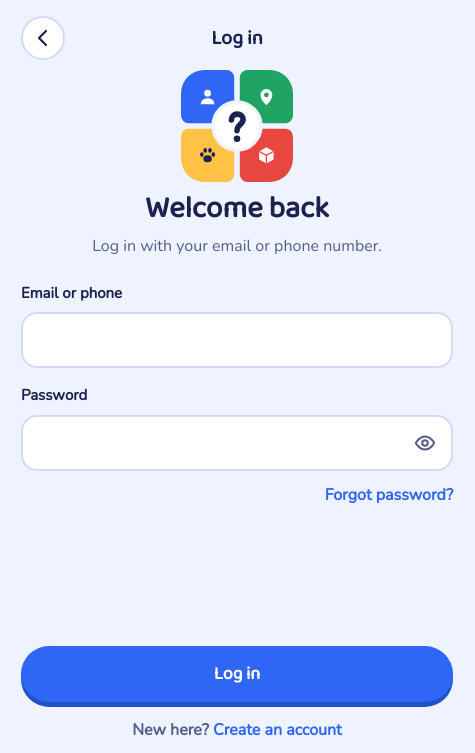
Scenario: log in and log out › asks for both fields
Click the button "Log in". click: [237, 674]
box: [21,646,453,702]
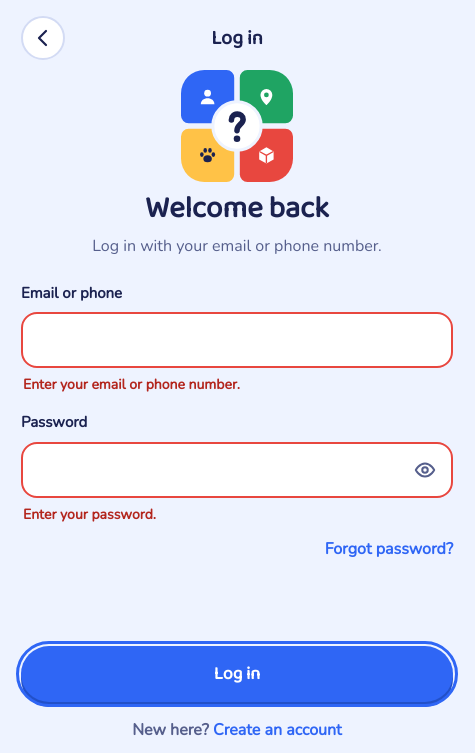
Expected: the text "Enter your email or phone number." is shown, [23,375,240,394]
Expected: the text "Enter your password." is shown, [23,504,156,524]
